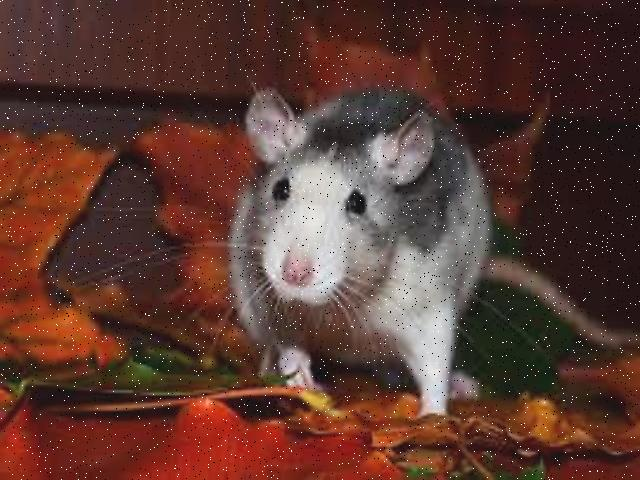Tikus: (230, 78, 596, 423)
